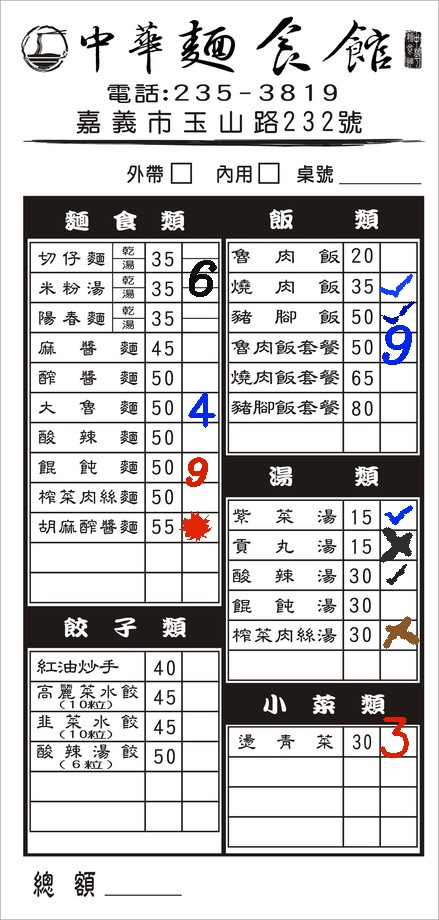marked_circle: (181, 512, 217, 541)
marked_number_3: (380, 726, 416, 755)
marked_number_4: (181, 392, 217, 421)
marked_number_6: (183, 273, 217, 286)
marked_number_9: (179, 453, 215, 482), (378, 332, 414, 361)
marked_tick: (381, 500, 417, 529), (378, 271, 414, 300), (380, 561, 416, 590), (380, 302, 416, 331)
marked_x: (380, 531, 416, 560), (380, 619, 416, 648)
